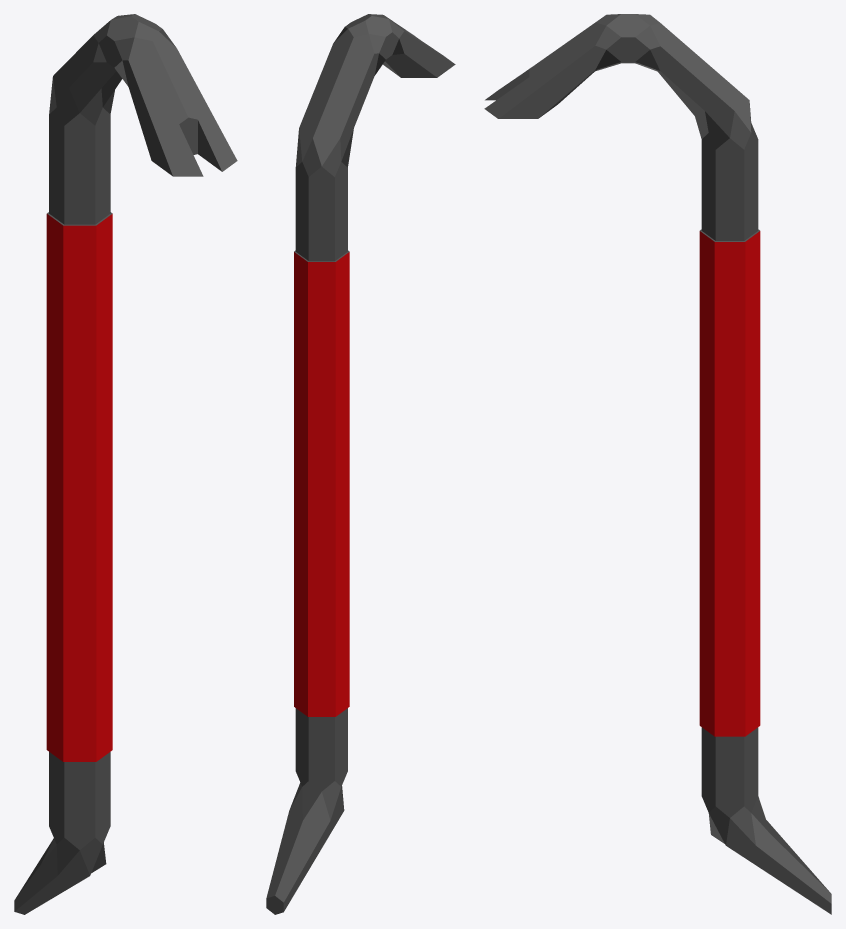
The model's file is crowbar.fbx.
The picture shows the model from 3 angles, left to right: view 1: azimuth 30°, elevation 25°; view 2: azimuth 150°, elevation 25°; view 3: azimuth 270°, elevation 25°; orthographic projection. The views are drawn at different scales.
Visible parts, largest first — view 1: Cylinder; view 2: Cylinder; view 3: Cylinder.
Boxes of the visible parts, x1,y1,x2,y2 form: Cylinder: (14, 14, 237, 914); Cylinder: (266, 14, 455, 914); Cylinder: (484, 14, 831, 914).
Size of the model in its own units: 34.45 by 498 by 174.
